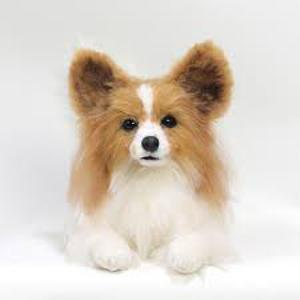yell: (64, 39, 235, 274)
